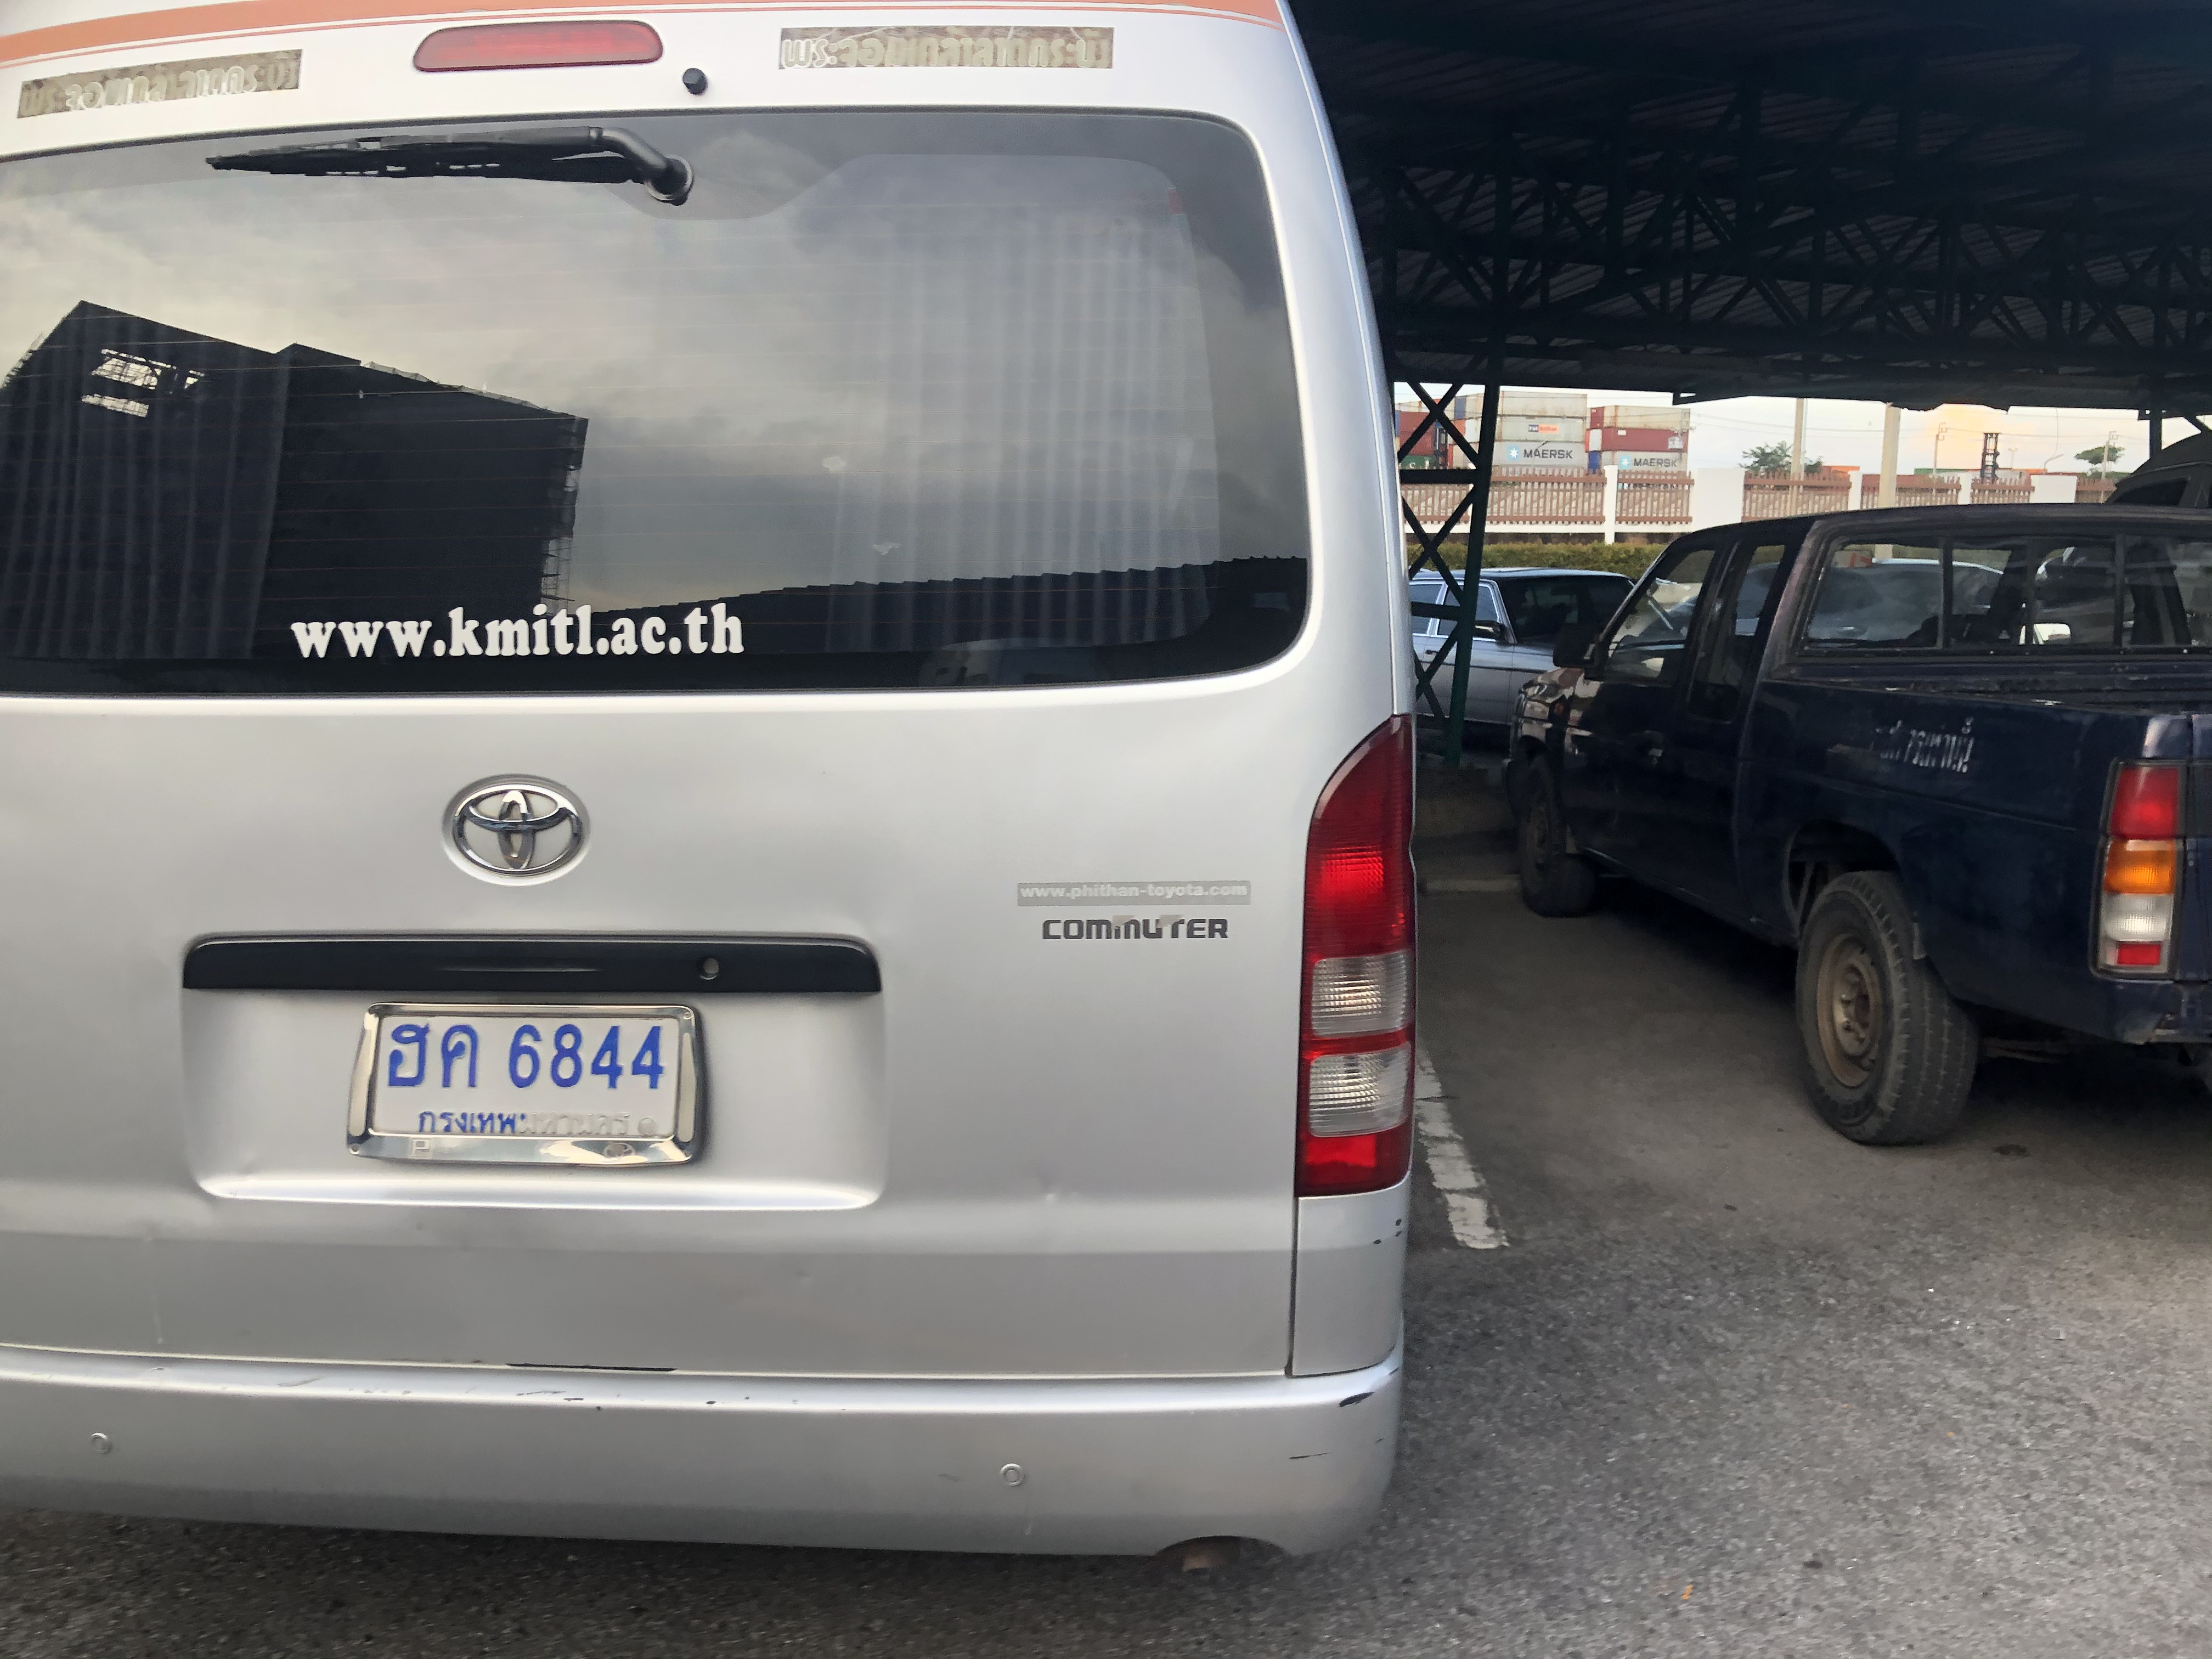in: (373, 1021, 672, 1140)
out: (345, 999, 709, 1173)
